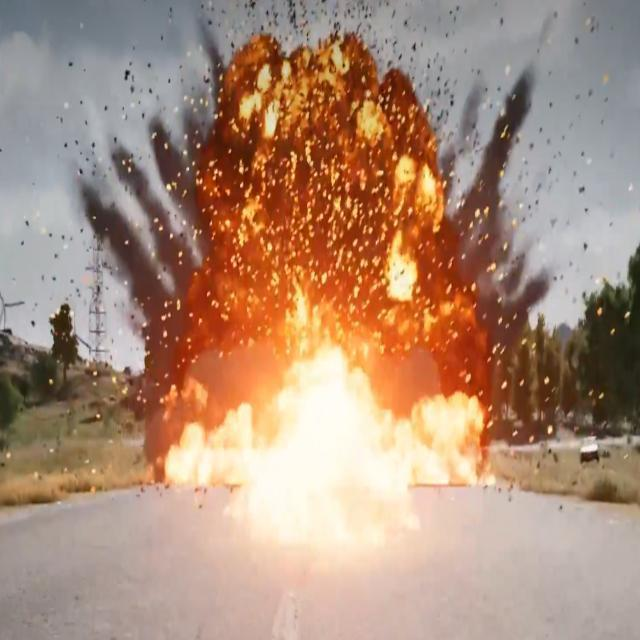fire: (72, 8, 583, 534)
